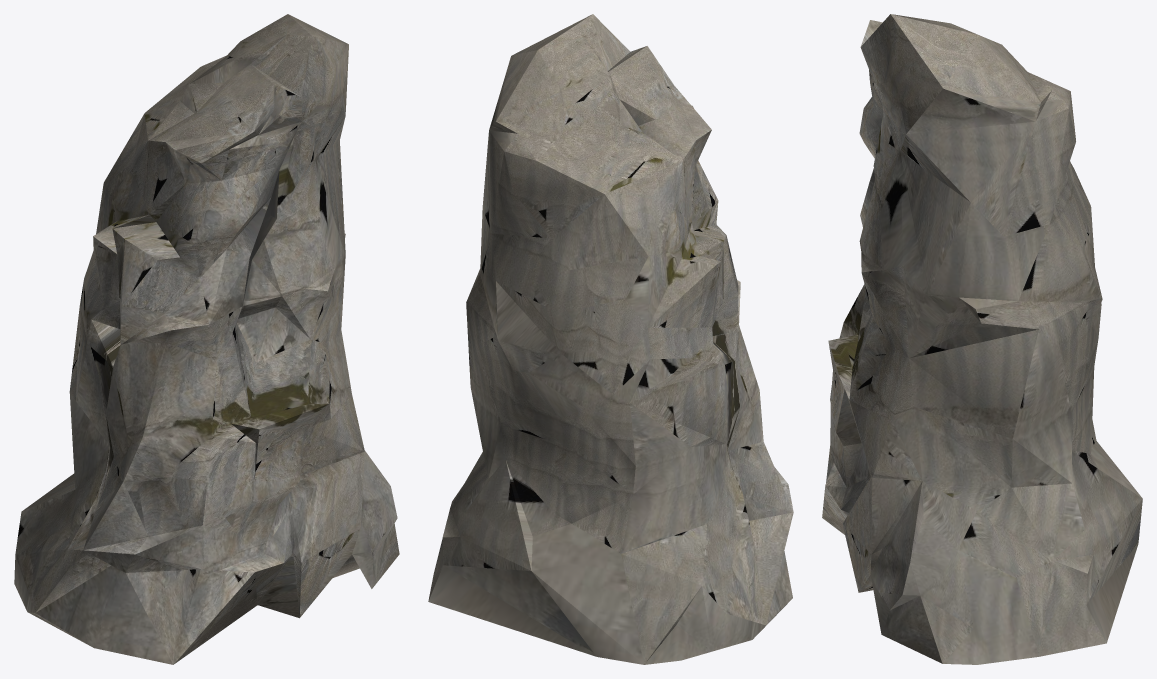
File: ea_limestone_outcrop_lod1.glb
3 views of the same model, side by side, from view 1: azimuth 30°, elevation 25°; view 2: azimuth 150°, elevation 25°; view 3: azimuth 270°, elevation 25° (orthographic). The views are drawn at different scales.
Visible parts, largest first — view 1: output_unwrapped; view 2: output_unwrapped; view 3: output_unwrapped.
Part boxes in pixels (x1=…): output_unwrapped: x1=14, y1=14, x2=399, y2=664; output_unwrapped: x1=428, y1=14, x2=793, y2=664; output_unwrapped: x1=822, y1=14, x2=1142, y2=664.
Size of the model in its own units: 1.2 by 1.89 by 0.9253.
Materials: 1 (1 with a texture image).
